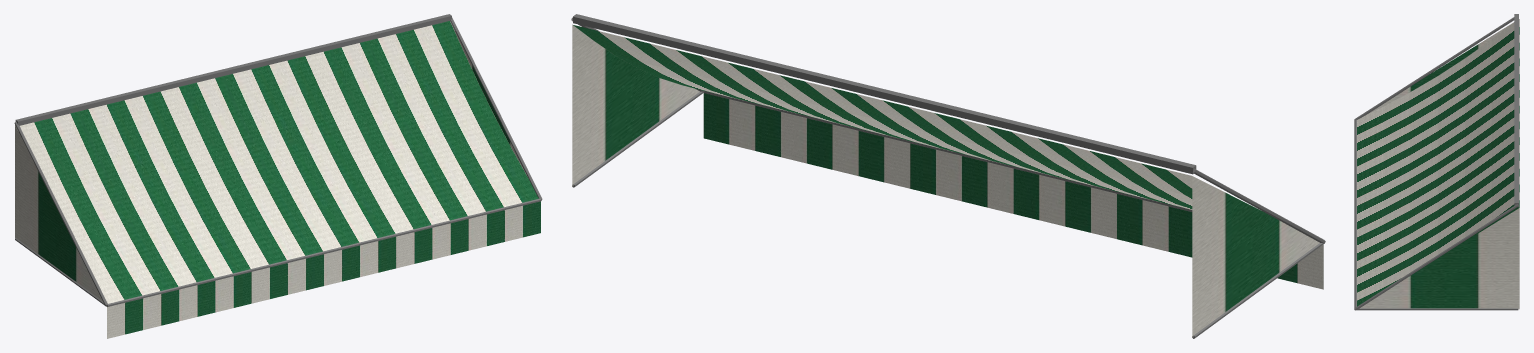
The model's file is awning_canvas_green.glb.
3 renders of one model, left to right at view 1: azimuth 30°, elevation 25°; view 2: azimuth 150°, elevation 25°; view 3: azimuth 270°, elevation 25°, orthographic. The views are drawn at different scales.
Visible parts, largest first — view 1: awning_canvas_green; view 2: awning_canvas_green; view 3: awning_canvas_green.
Boxes of the visible parts, x1,y1,x2,y2 form: awning_canvas_green: [14, 14, 542, 338]; awning_canvas_green: [571, 14, 1325, 338]; awning_canvas_green: [1354, 14, 1519, 310].
Size of the model in its own units: 3.02 by 1.01 by 1.11.
Materials: 2 (1 with a texture image).
